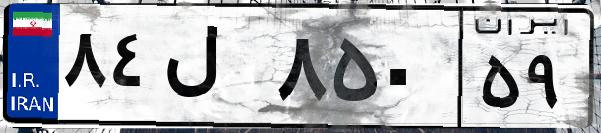0: (385, 28, 445, 110)
4: (110, 28, 158, 98)
5: (330, 28, 385, 110), (475, 38, 525, 113)
8: (270, 28, 330, 110), (57, 26, 110, 100)
9: (525, 38, 570, 115)
ل: (158, 20, 270, 120)
